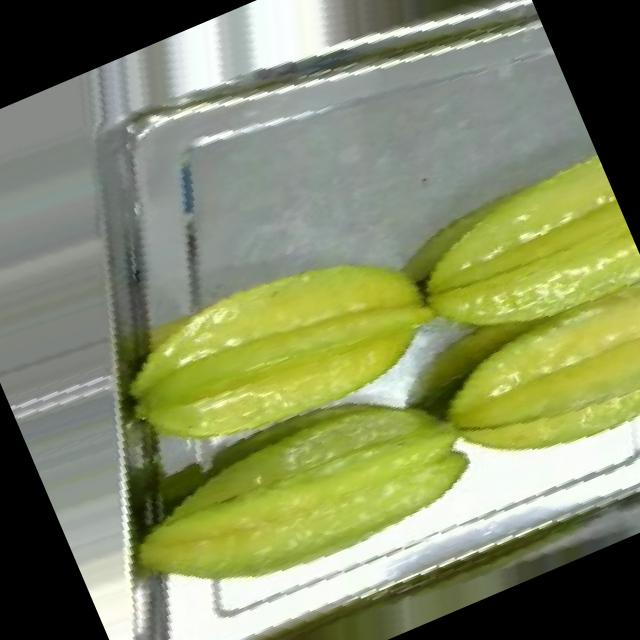fruit: (343, 110, 640, 516), (80, 190, 471, 494), (91, 349, 496, 640)
